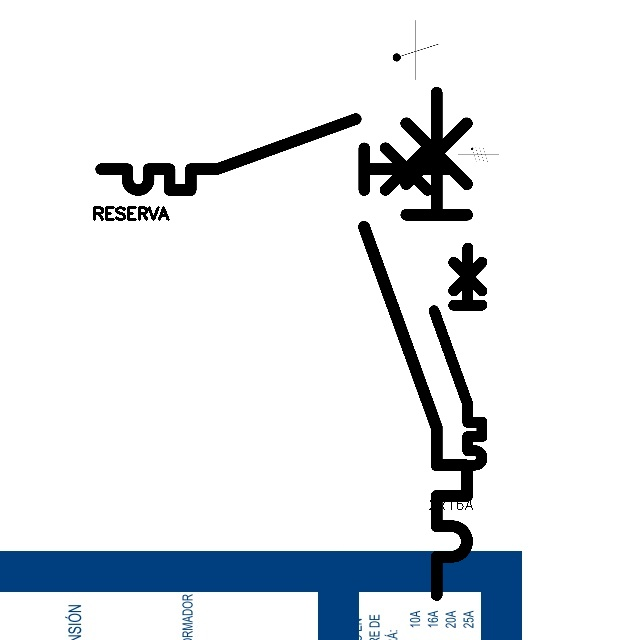interruptor_termomagnetico: (351, 79, 480, 607), (92, 110, 458, 199), (428, 242, 488, 489)
